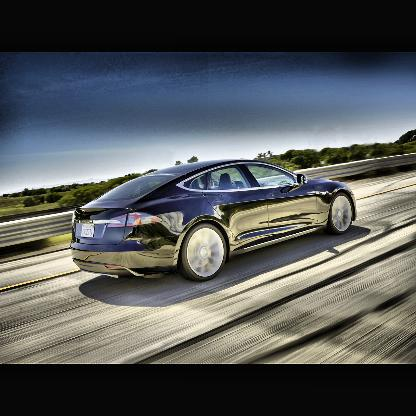Tesla Model S Sedan 2012: (72, 161, 359, 284)
